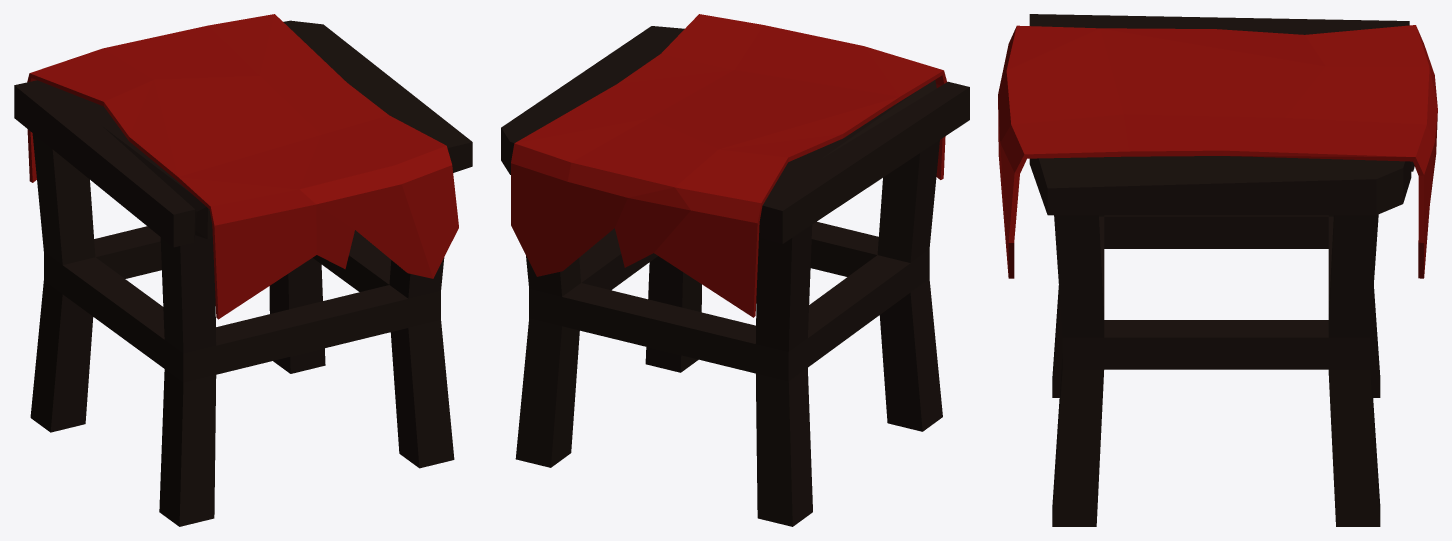
Rendered from stool_cloth.obj.
3 renders of one model, left to right at view 1: azimuth 30°, elevation 25°; view 2: azimuth 150°, elevation 25°; view 3: azimuth 270°, elevation 25°, orthographic. The views are drawn at different scales.
Visible parts, largest first — view 1: stool_cloth_Cube.035_redWood, stool_cloth_Cube.035_clothRed; view 2: stool_cloth_Cube.035_redWood, stool_cloth_Cube.035_clothRed; view 3: stool_cloth_Cube.035_redWood, stool_cloth_Cube.035_clothRed.
Part boxes in pixels (left/top/right/bottom): stool_cloth_Cube.035_redWood: left=14, top=20, right=472, bottom=526; stool_cloth_Cube.035_clothRed: left=27, top=14, right=458, bottom=319; stool_cloth_Cube.035_redWood: left=501, top=26, right=969, bottom=526; stool_cloth_Cube.035_clothRed: left=511, top=14, right=946, bottom=317; stool_cloth_Cube.035_redWood: left=1029, top=14, right=1414, bottom=526; stool_cloth_Cube.035_clothRed: left=998, top=25, right=1437, bottom=278.
Bounding box in the file's own units: 0.6914 × 0.714 × 0.7782.
